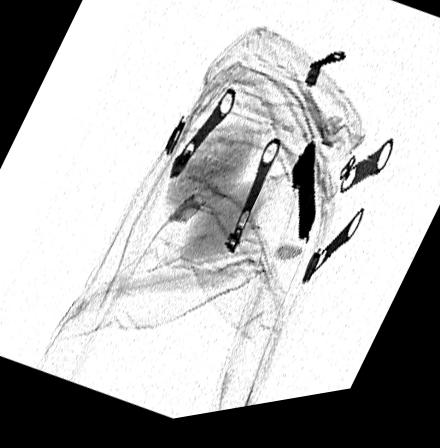Gun: (291, 148, 318, 252)
